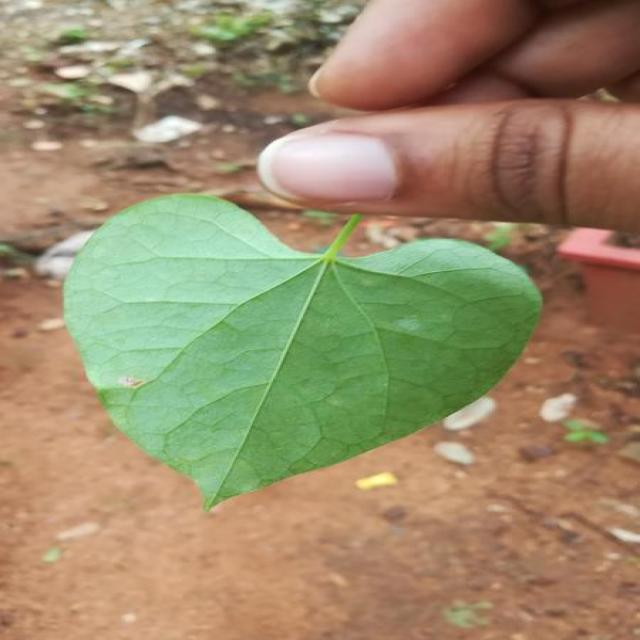Amruthaballi: (65, 195, 540, 508)
